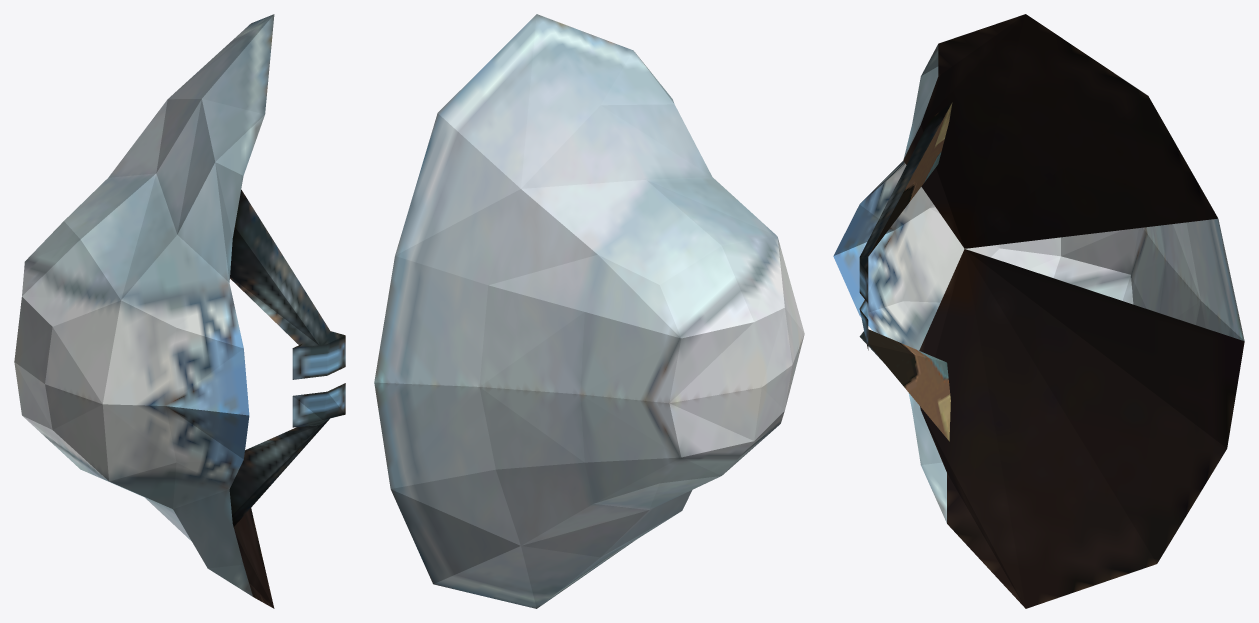
The model's file is SGHELMET.obj.
3 views of the same model, side by side, from view 1: azimuth 30°, elevation 25°; view 2: azimuth 150°, elevation 25°; view 3: azimuth 270°, elevation 25° (orthographic).
Parts seen in each view (by area): view 1: Node 0; view 2: Node 0; view 3: Node 0.
Part boxes in pixels (x1,y1,x2,y2): Node 0: (14, 14, 345, 608); Node 0: (374, 14, 804, 608); Node 0: (833, 14, 1244, 608).
Size of the model in its own units: 0.39 by 0.75 by 0.47.
1 material, 1 textured.
